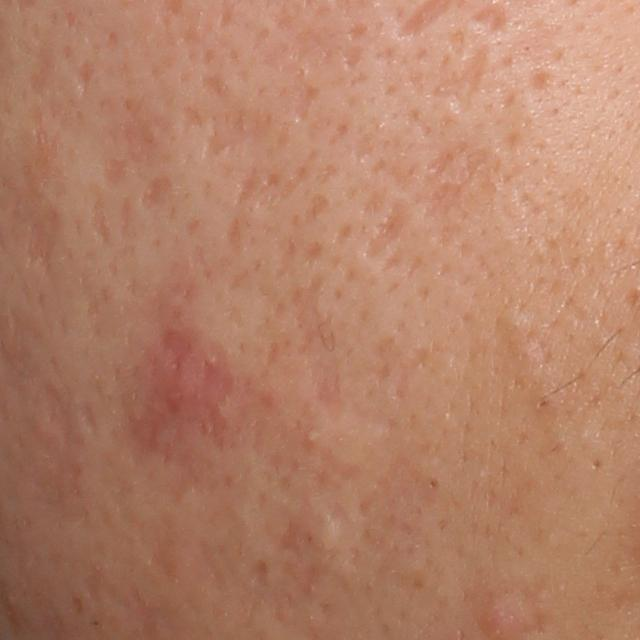atrophic_scar: (9, 133, 69, 284), (295, 275, 345, 417), (200, 105, 295, 162), (440, 45, 491, 110), (360, 201, 405, 264), (469, 1, 518, 43), (84, 190, 117, 251), (25, 42, 57, 101), (235, 163, 267, 210), (139, 174, 176, 213), (98, 155, 134, 188), (222, 213, 249, 257), (249, 553, 273, 591), (76, 57, 97, 92)
